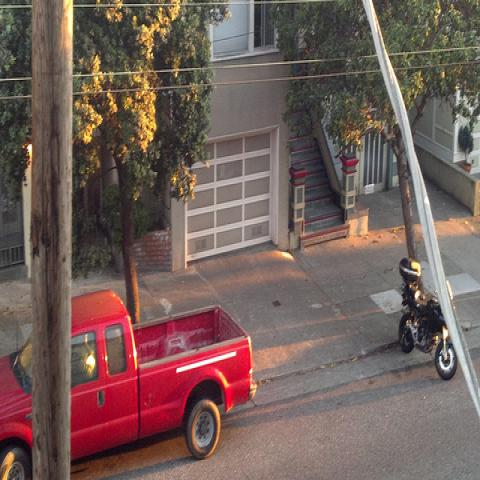motorcycle: (399, 252, 456, 375)
truck: (0, 286, 261, 476)
